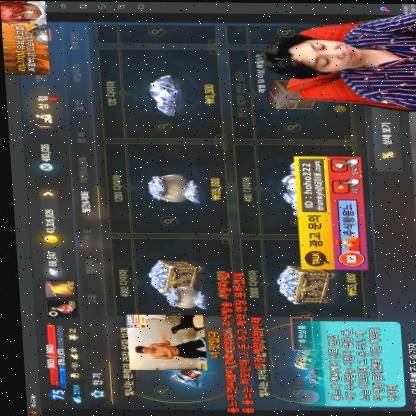donation: (116, 270, 265, 413)
streamer: (256, 10, 416, 111)
